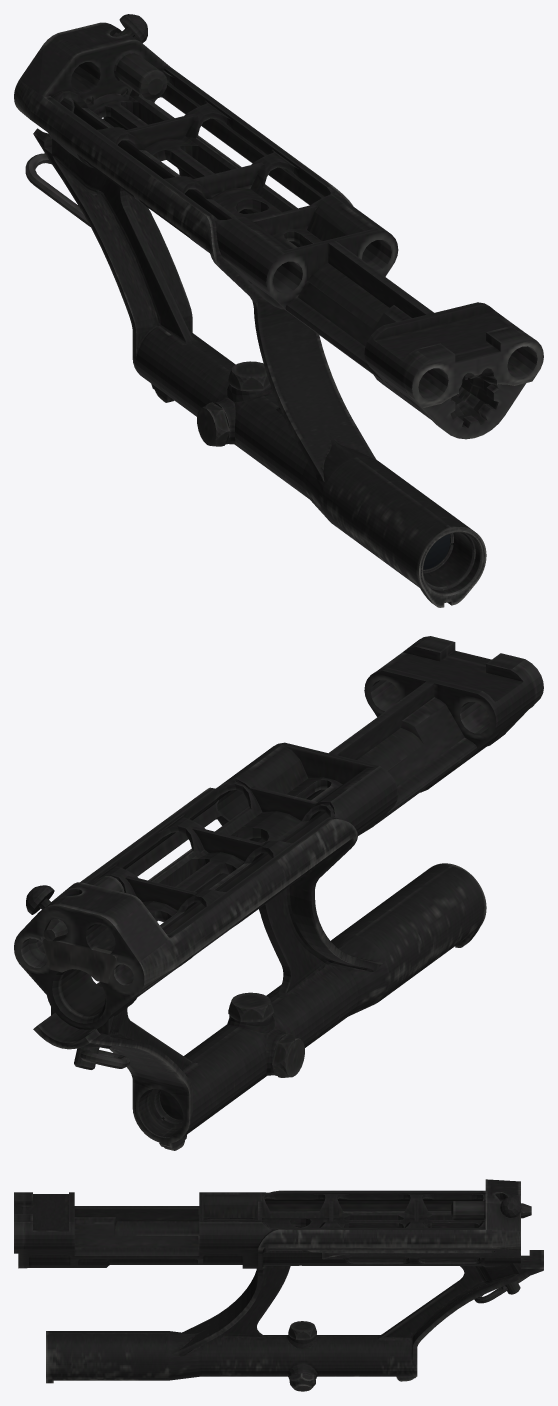
3 views of the same model, one above another, from view 1: azimuth 30°, elevation 25°; view 2: azimuth 150°, elevation 25°; view 3: azimuth 270°, elevation 25° (orthographic). The views are drawn at different scales.
Parts seen in each view (by area): view 1: TW_62ea7c793043d74a0306e19f_PZ_Import; view 2: TW_62ea7c793043d74a0306e19f_PZ_Import; view 3: TW_62ea7c793043d74a0306e19f_PZ_Import.
Boxes of the visible parts, x1,y1,x2,y2 form: TW_62ea7c793043d74a0306e19f_PZ_Import: [14, 14, 543, 607]; TW_62ea7c793043d74a0306e19f_PZ_Import: [14, 636, 543, 1150]; TW_62ea7c793043d74a0306e19f_PZ_Import: [14, 1179, 543, 1391].
Size of the model in its own units: 0.0346 by 0.1731 by 0.072.
Materials: 1 (1 with a texture image).
